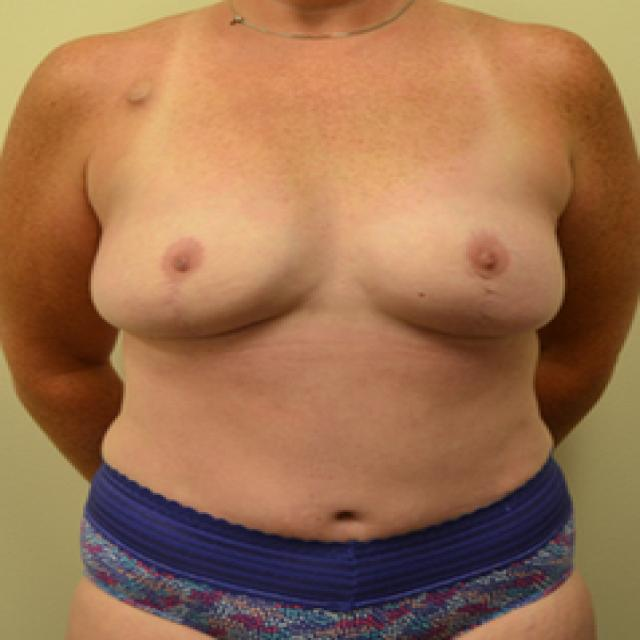Seno herido: (85, 161, 336, 349), (343, 160, 578, 348)
